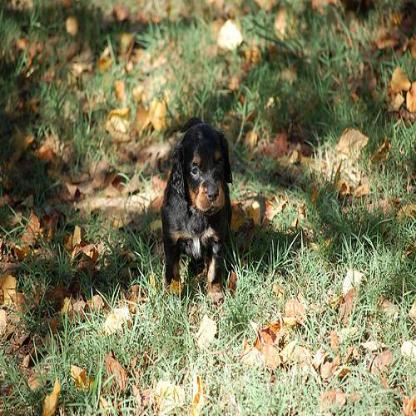Gordon_setter: (160, 112, 234, 306)
